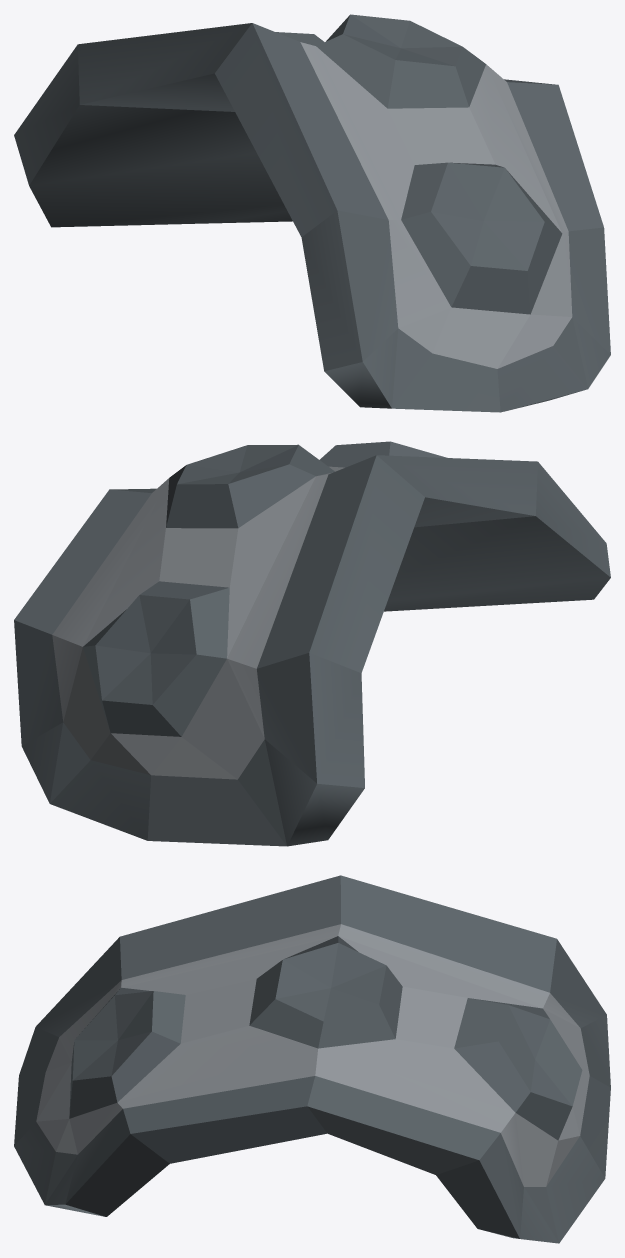
File: Chr_ShoulderAttachLeft_01_Static.fbx
The picture shows the model from 3 angles, top to bottom: view 1: azimuth 30°, elevation 25°; view 2: azimuth 150°, elevation 25°; view 3: azimuth 270°, elevation 25°; orthographic projection. The views are drawn at different scales.
Visible parts, largest first — view 1: Chr_ShoulderAttachLeft_01_Static; view 2: Chr_ShoulderAttachLeft_01_Static; view 3: Chr_ShoulderAttachLeft_01_Static.
Part boxes in pixels (x1,y1,x2,y2): Chr_ShoulderAttachLeft_01_Static: (14,14,610,412); Chr_ShoulderAttachLeft_01_Static: (14,441,610,846); Chr_ShoulderAttachLeft_01_Static: (14,875,610,1243).
Bounding box in the file's own units: 0.2304 × 0.1757 × 0.3391.
